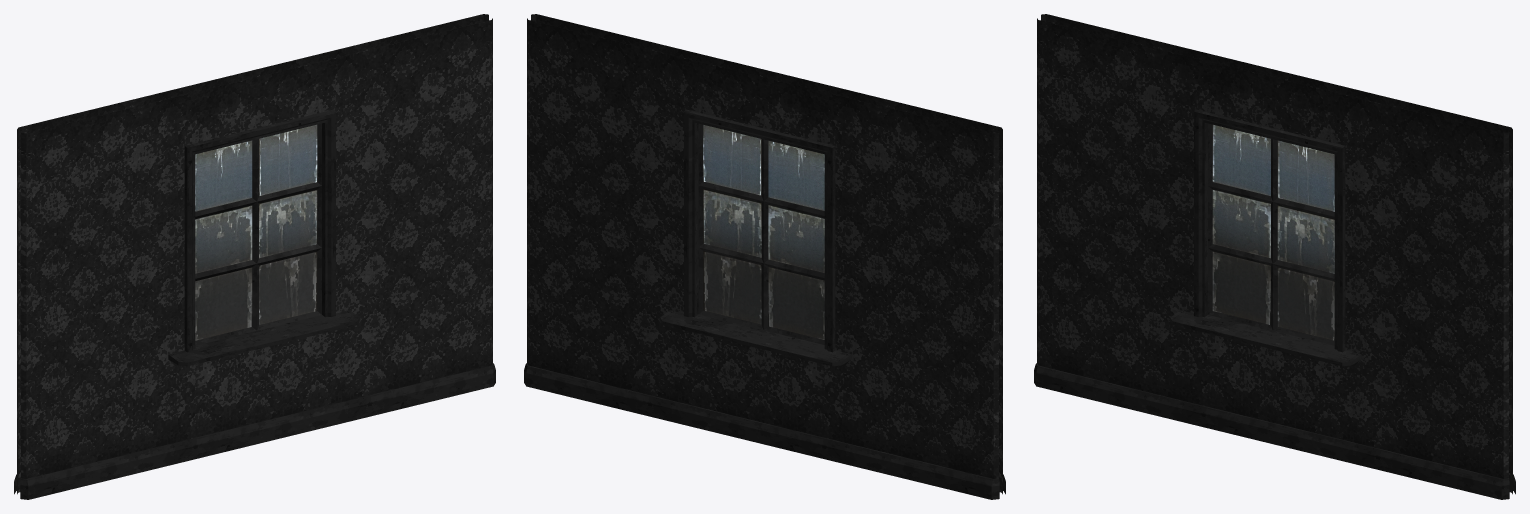
File: window_2_1_single.fbx
The picture shows the model from 3 angles, left to right: view 1: azimuth 30°, elevation 25°; view 2: azimuth 150°, elevation 25°; view 3: azimuth 330°, elevation 25°; orthographic projection.
Visible parts, largest first — view 1: window_2_1_single; view 2: window_2_1_single; view 3: window_2_1_single.
Boxes of the visible parts, <box> form: window_2_1_single: <box>14,14,495,499</box>; window_2_1_single: <box>524,14,1005,499</box>; window_2_1_single: <box>1034,14,1515,499</box>.
Bounding box in the file's own units: 4.09 × 3 × 0.52.
